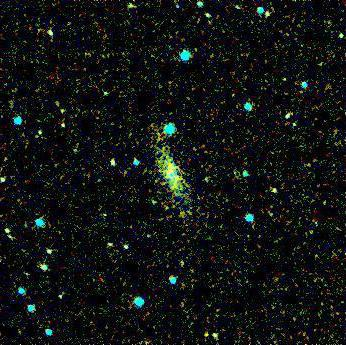star: (259, 173, 289, 203)
